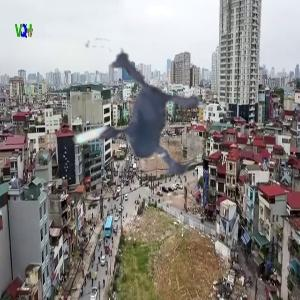drone: (11, 16, 226, 231)
